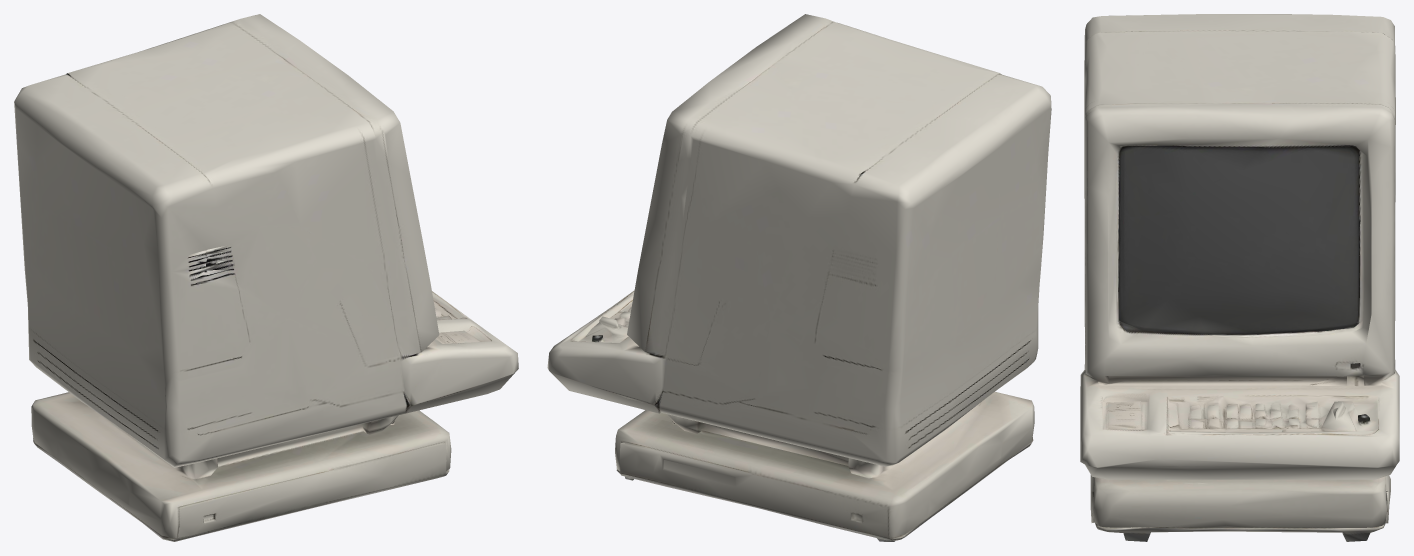
File: terminal.glb
3 renders of one model, left to right at view 1: azimuth 30°, elevation 25°; view 2: azimuth 150°, elevation 25°; view 3: azimuth 270°, elevation 25°, orthographic. The views are drawn at different scales.
Parts seen in each view (by area): view 1: tripo_node_63756606-0b3a-40cd-8bbc-4a12ff4a324f; view 2: tripo_node_63756606-0b3a-40cd-8bbc-4a12ff4a324f; view 3: tripo_node_63756606-0b3a-40cd-8bbc-4a12ff4a324f.
Boxes of the visible parts, <box> form: tripo_node_63756606-0b3a-40cd-8bbc-4a12ff4a324f: <box>14,14,518,541</box>; tripo_node_63756606-0b3a-40cd-8bbc-4a12ff4a324f: <box>547,14,1051,541</box>; tripo_node_63756606-0b3a-40cd-8bbc-4a12ff4a324f: <box>1080,14,1399,541</box>.
Size of the model in its own units: 0.9988 by 1 by 0.7238.
1 material, 1 textured.
